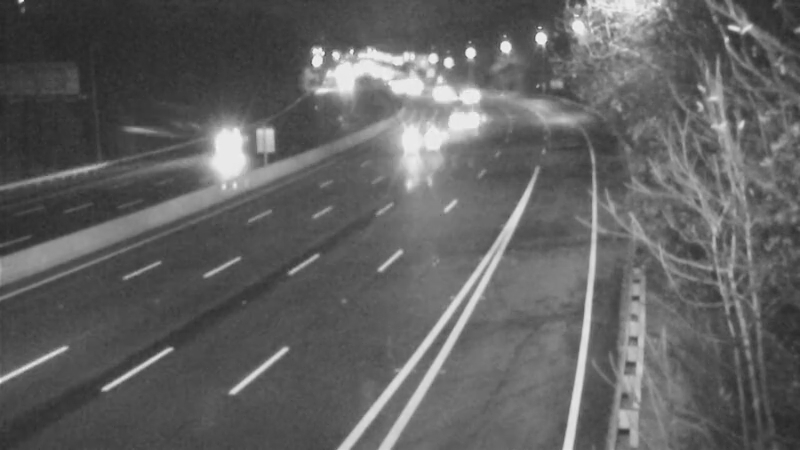vehicle: (413, 64, 463, 114), (446, 69, 496, 119), (421, 95, 471, 145), (380, 123, 430, 173), (219, 120, 269, 170)
